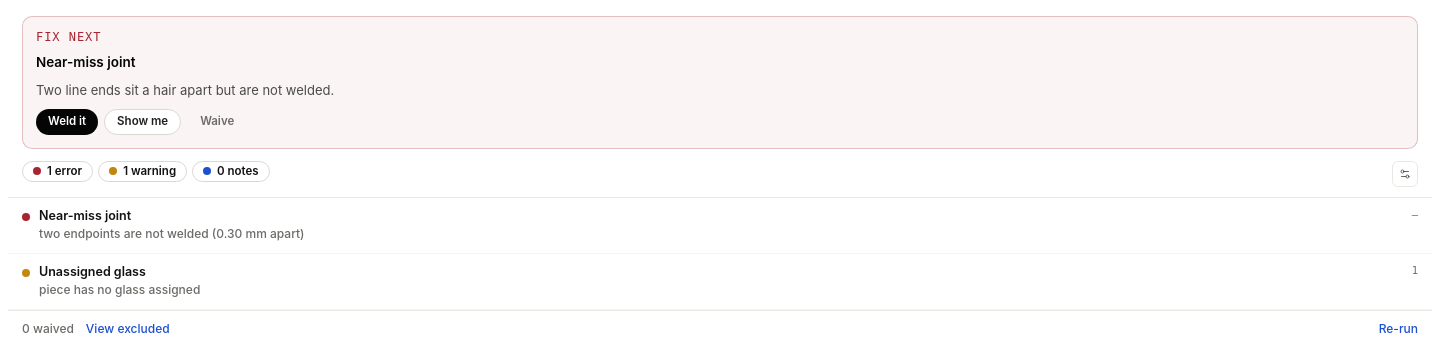
RulesPanel — fix next (Cockpit v2) › filters the queue by severity, and re-promotes what is left
The width and height of the screenshot is (1440, 350).
Check: the button "1 warning" is shown, box [98,161,187,182]
Click the button "1 error".
click(58, 171)  # box [22,161,93,182]
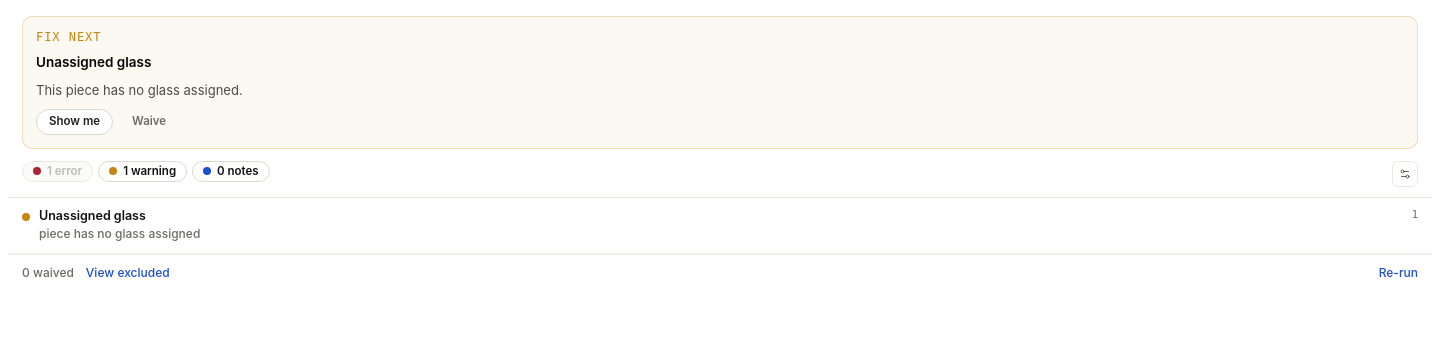
Check: the 2nd text "Unassigned glass" is shown, box [39,208,146,223]
Check: the text "Near-miss joint" is gone
Check: the text "Unassigned glass" below "Fix next" is shown, box [36,54,151,70]
